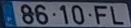0: (70, 4, 85, 25)
1: (58, 3, 69, 25)
6: (34, 3, 48, 25)
8: (19, 3, 34, 25)
F: (93, 4, 108, 25)
L: (109, 5, 124, 26)
